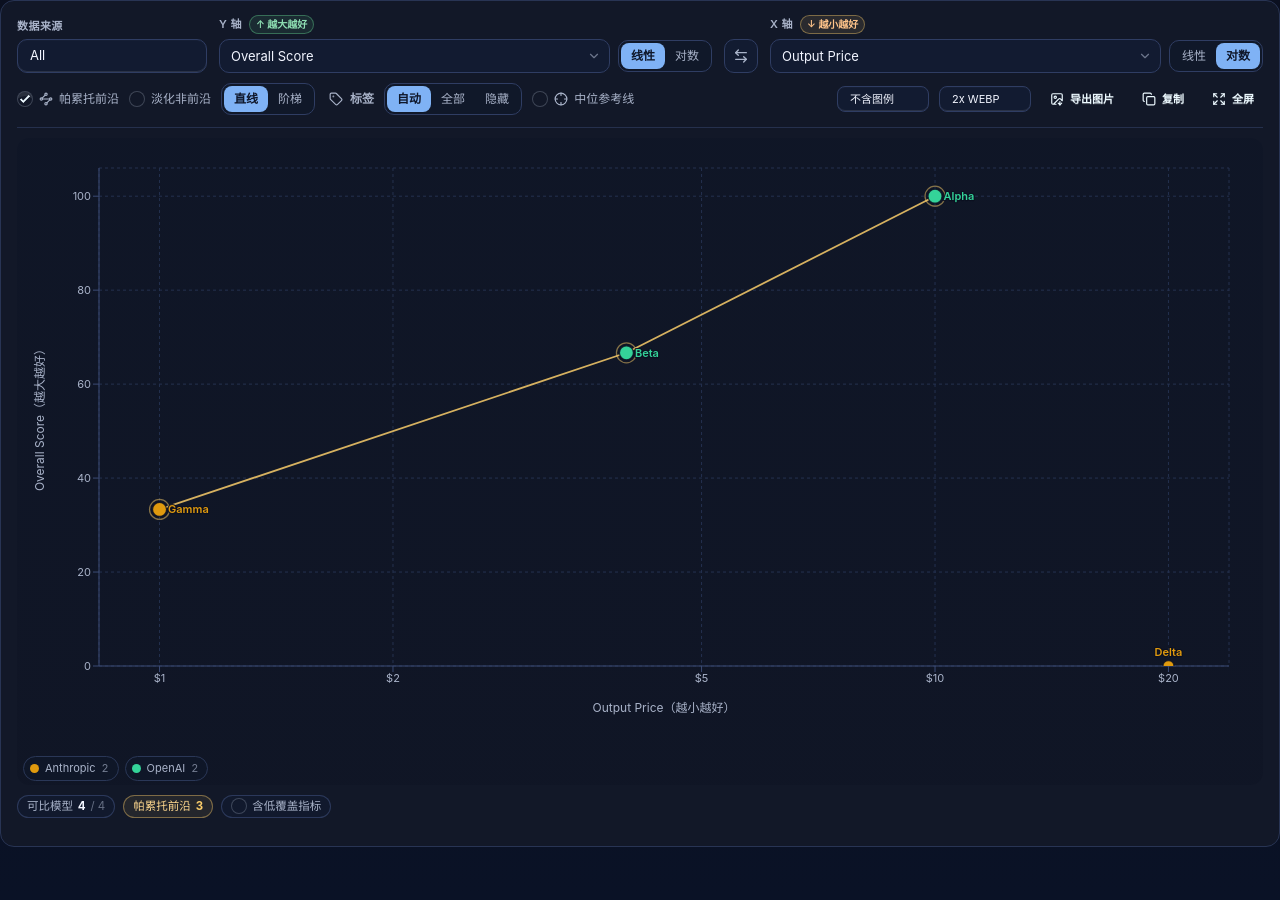
ModelScatter › 双线性且两轴方向一致时切换为散点趋势线
The width and height of the screenshot is (1280, 900).
Replace the text in the dropdown labelled "Y 轴 ↑ 越大越好" with "Bench-Two" at (414, 56), box [219, 39, 610, 73]
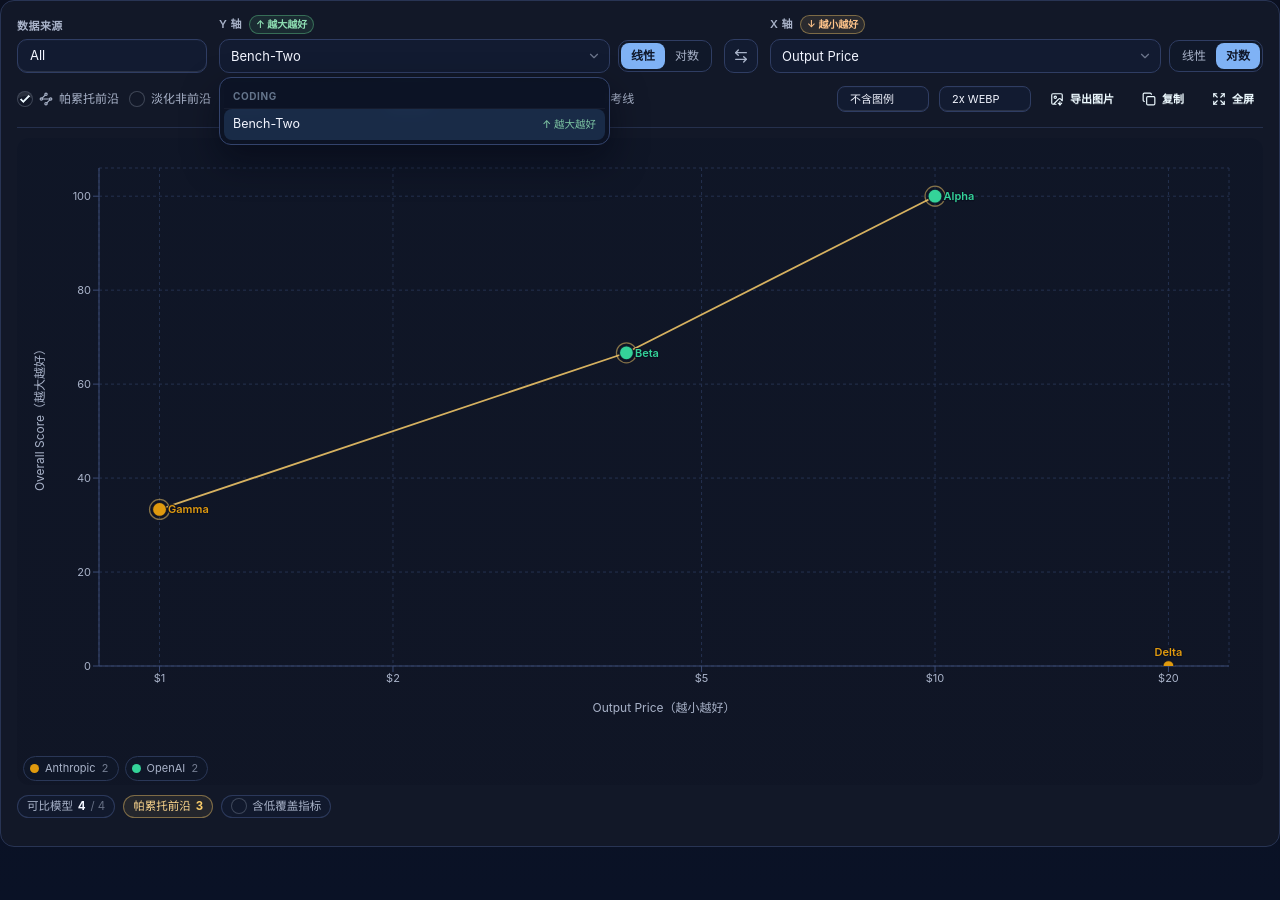
Click the option "Bench-Two ↑ 越大越好" at (266, 124), box [224, 109, 605, 140]
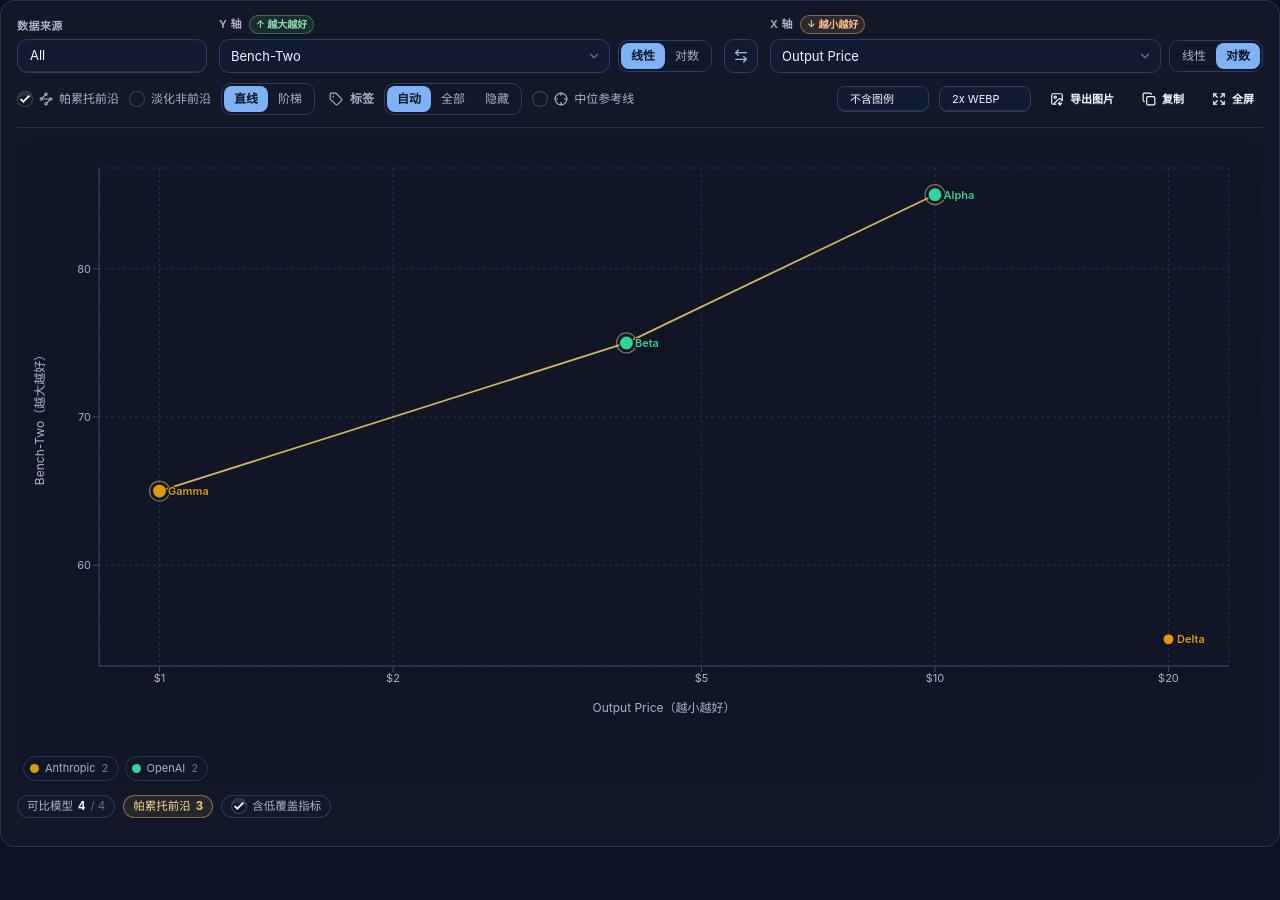
Replace the text in the dropdown labelled "X 轴 ↓ 越小越好" with "Bench-One" at (966, 56), box [770, 39, 1161, 73]
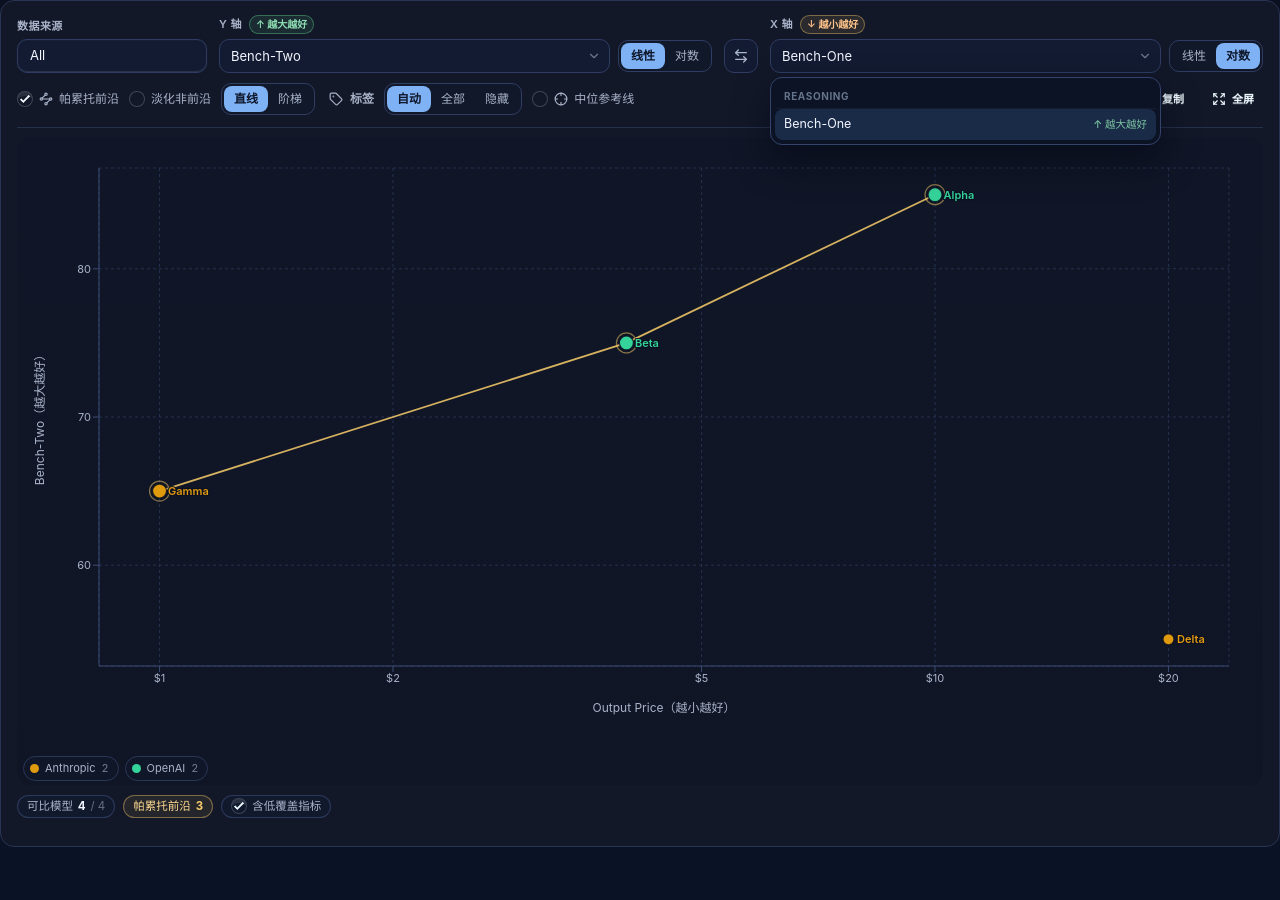
Click the option "Bench-One ↑ 越大越好" at (818, 124), box [775, 109, 1156, 140]
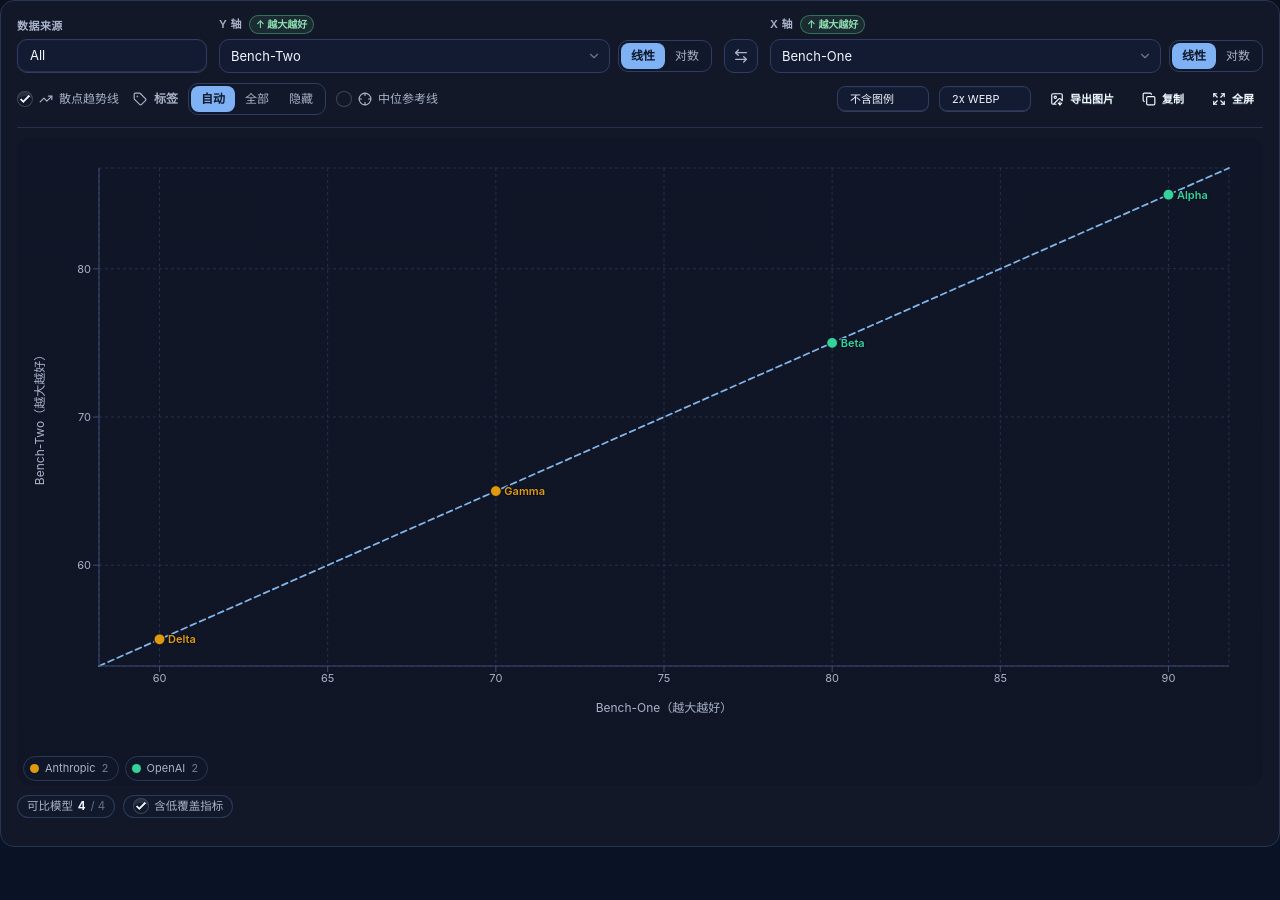
Expected: the checkbox labelled "散点趋势线" is shown, [17, 91, 33, 107]
Expected: the text "淡化非前沿" is gone
